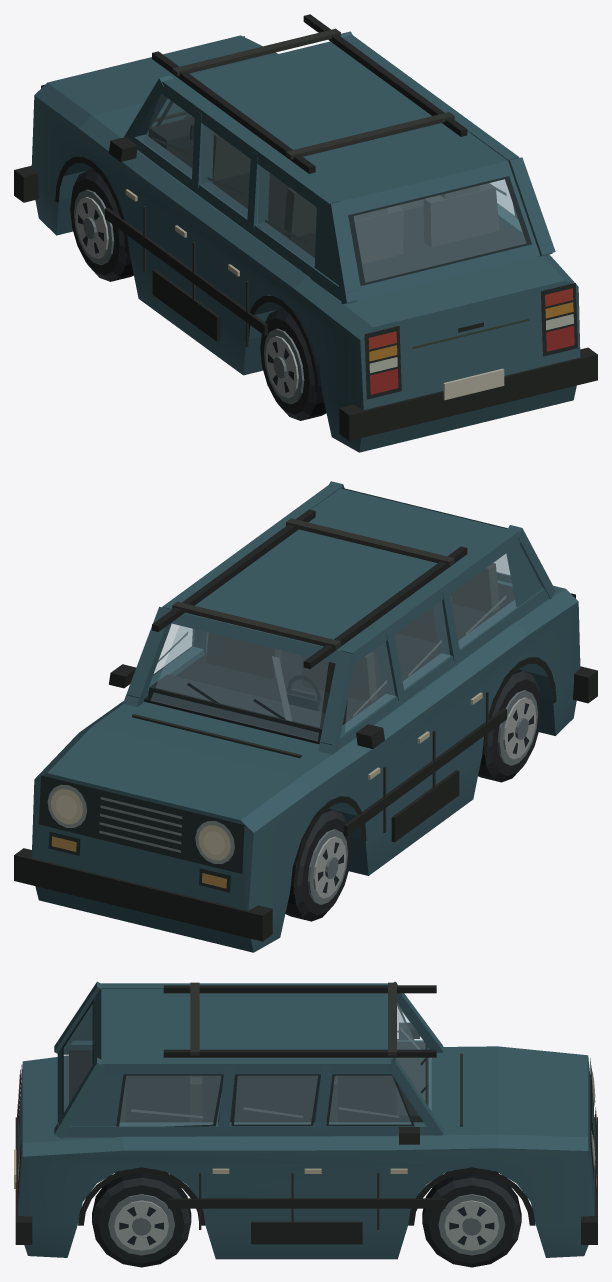
The model's file is suv_bleu_petrole.glb.
3 renders of one model, top to bottom at view 1: azimuth 30°, elevation 25°; view 2: azimuth 150°, elevation 25°; view 3: azimuth 270°, elevation 25°, orthographic. The views are drawn at different scales.
Visible parts, largest first — view 1: proposition_suv_bleu_petrole; view 2: proposition_suv_bleu_petrole; view 3: proposition_suv_bleu_petrole.
Boxes of the visible parts, x1,y1,x2,y2 form: proposition_suv_bleu_petrole: (14, 14, 597, 452); proposition_suv_bleu_petrole: (14, 481, 597, 952); proposition_suv_bleu_petrole: (14, 981, 597, 1267).
Size of the model in its own units: 2.04 by 1.72 by 4.49.
